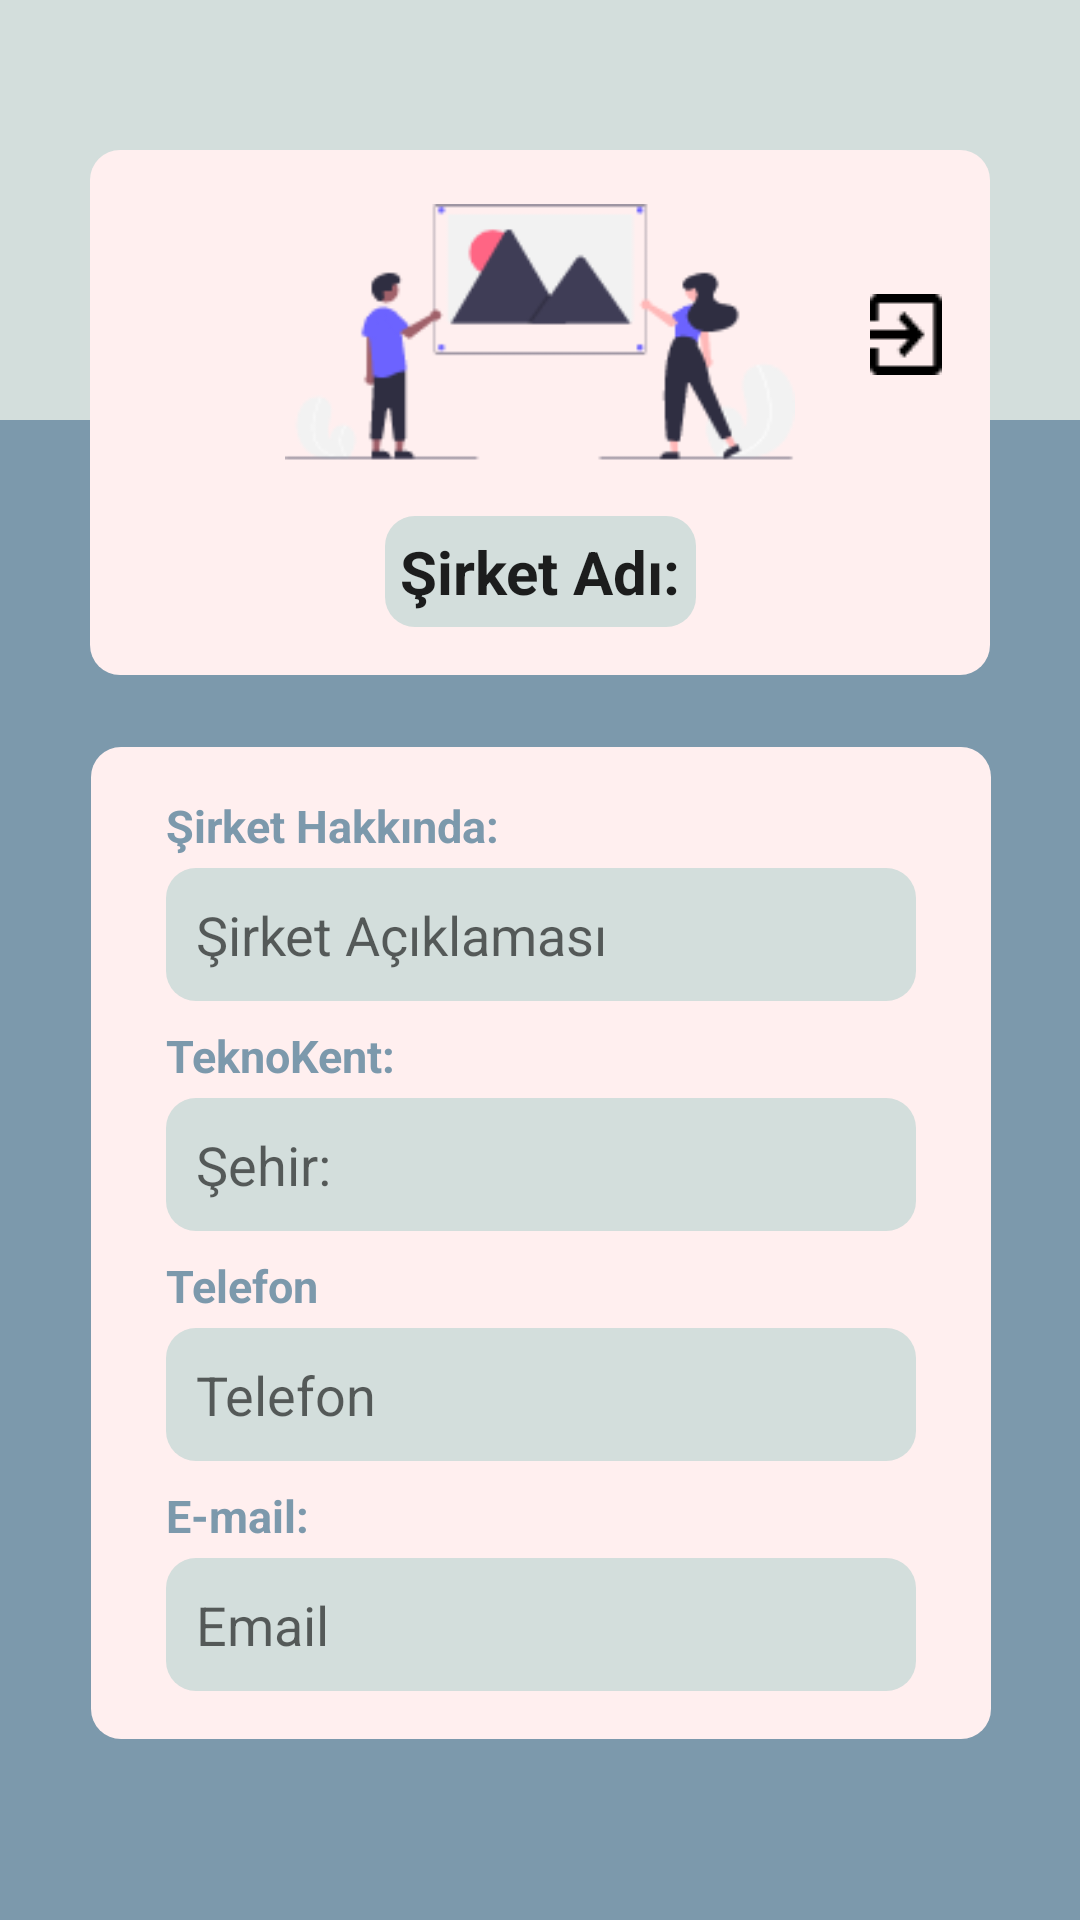

Icons on this 1080 x 1920 Android screen, each with its box as region(x1, y1, x2, y2):
exit: region(870, 294, 942, 375)
